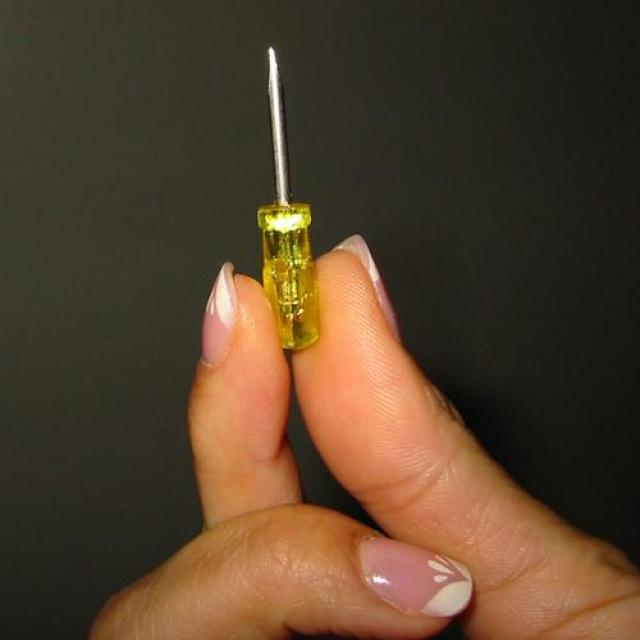screw driver: (212, 5, 337, 343)
